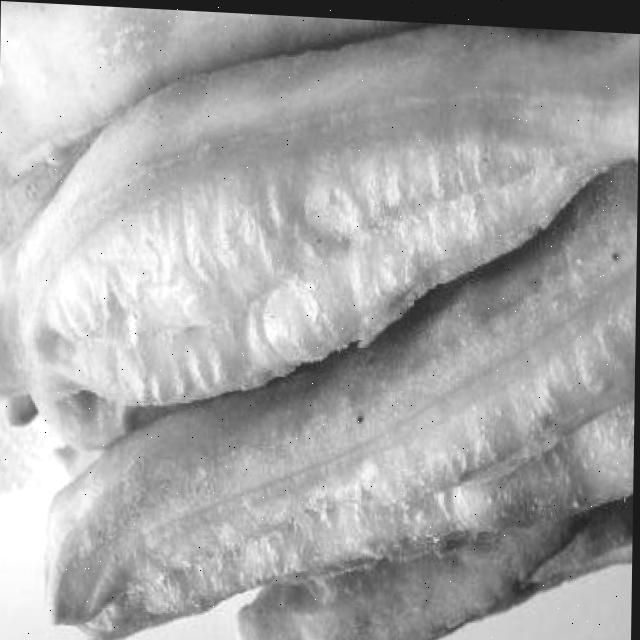炸货点心: (0, 6, 623, 640)
